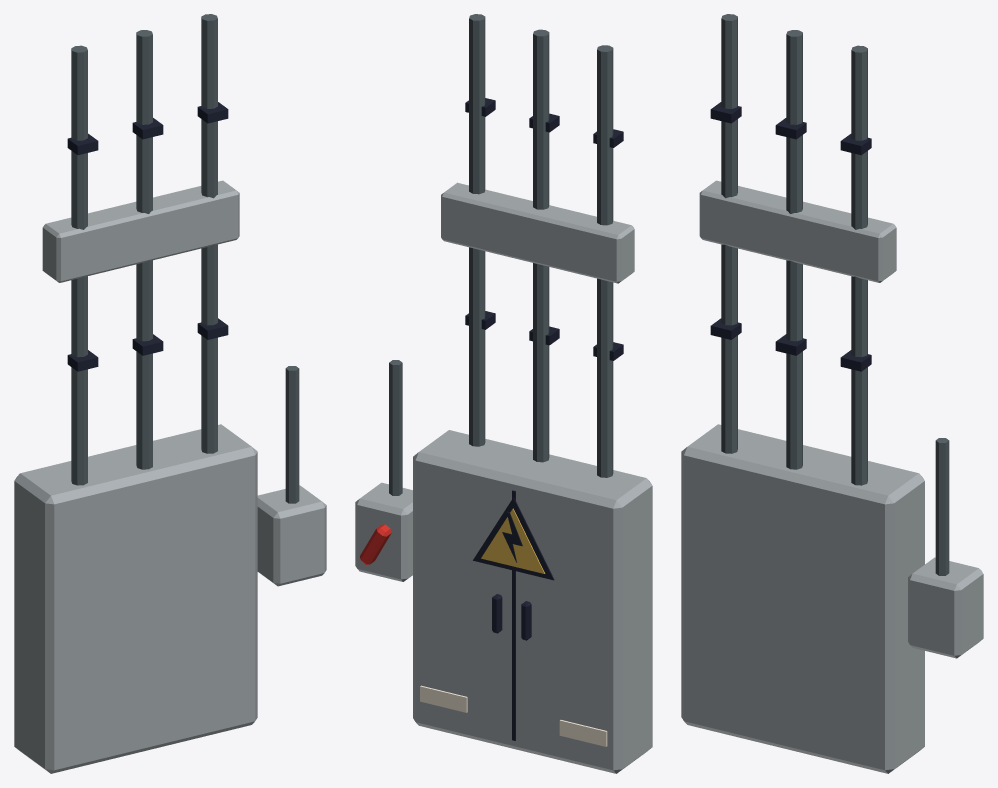
File: sm_env_depot_electrical_panel.glb
3 renders of one model, left to right at view 1: azimuth 30°, elevation 25°; view 2: azimuth 150°, elevation 25°; view 3: azimuth 330°, elevation 25°, orthographic.
Parts seen in each view (by area): view 1: Cabinet, JunctionBox, Conduit.002, Conduit, Conduit.001, Isolator, IsolatorConduit; view 2: Cabinet, JunctionBox, Conduit, Conduit.001, Conduit.002, Isolator, IsolatorConduit, Sticker, StickerRim, NamePlate, NamePlate.001, DoorSeam (+1 smaller); view 3: Cabinet, JunctionBox, Isolator, Conduit, Conduit.001, Conduit.002, IsolatorConduit.
Boxes of the visible parts, x1,y1,x2,y2 form: Cabinet: (14,424,257,773); JunctionBox: (42,180,239,282); Conduit.002: (201,14,217,453); Conduit: (71,45,87,485); Conduit.001: (136,30,152,469); Isolator: (257,485,326,586); IsolatorConduit: (285,366,299,503); Cabinet: (413,430,652,773); JunctionBox: (441,182,634,283); Conduit: (597,45,613,477); Conduit.001: (533,29,549,462); Conduit.002: (469,14,485,446); Isolator: (355,482,412,581); IsolatorConduit: (389,360,402,495); Sticker: (481,508,545,573); StickerRim: (473,497,554,580); NamePlate: (559,720,607,746); NamePlate.001: (420,685,467,712); DoorSeam: (512,490,515,740); Cabinet: (681,424,924,773); JunctionBox: (699,180,896,282); Isolator: (908,557,983,658); Conduit: (721,14,737,453); Conduit.001: (786,30,802,469); Conduit.002: (851,45,867,485); IsolatorConduit: (935,438,949,575).
Size of the model in its own units: 0.95 by 2.3 by 0.25.
